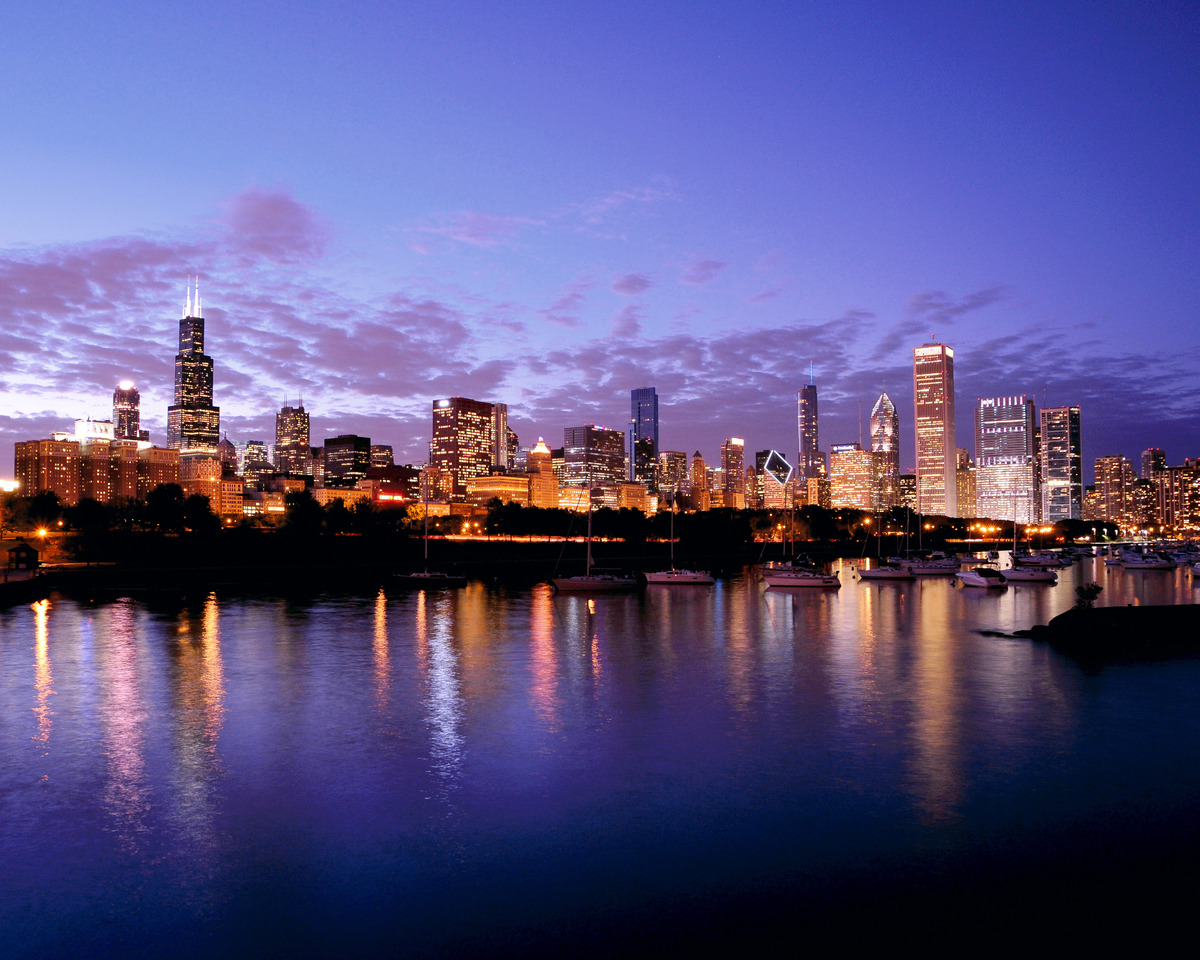willis: (156, 253, 235, 449)
